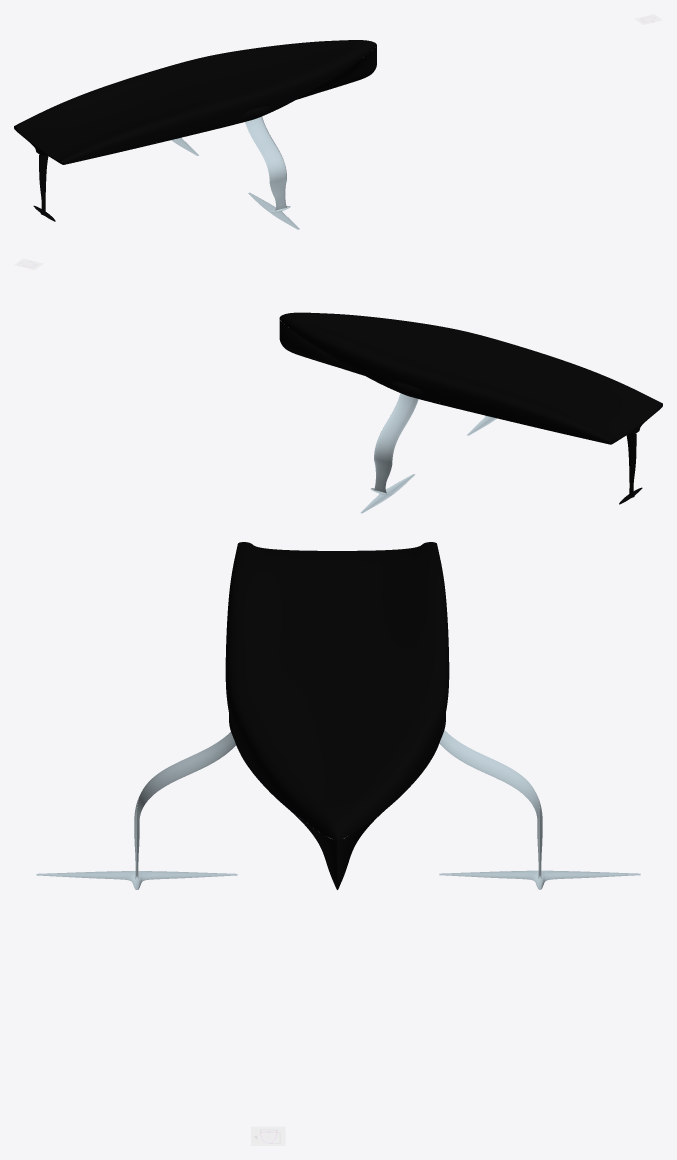
3 views of the same model, one above another, from view 1: azimuth 30°, elevation 25°; view 2: azimuth 150°, elevation 25°; view 3: azimuth 270°, elevation 25° (orthographic). The views are drawn at different scales.
Visible parts, largest first — view 1: TrimSrf (×3), ARM, Rudder, WINGIB; view 2: TrimSrf (×3), ARM, Rudder; view 3: TrimSrf (×2), ARM (×2), WINGIB.
Part boxes in pixels (x1,y1,x2,y2): TrimSrf (×3): (15, 40, 376, 164); ARM: (245, 116, 286, 210); Rudder: (39, 155, 48, 214); WINGIB: (248, 192, 299, 229); TrimSrf (×3): (279, 312, 662, 444); ARM: (374, 393, 418, 493); Rudder: (626, 434, 636, 496); TrimSrf (×2): (225, 542, 449, 840); ARM (×2): (134, 730, 542, 878); WINGIB: (36, 871, 237, 889).
Size of the model in its own units: 21.03 by 3.34 by 9.13.
Materials: 3 (1 with a texture image).
